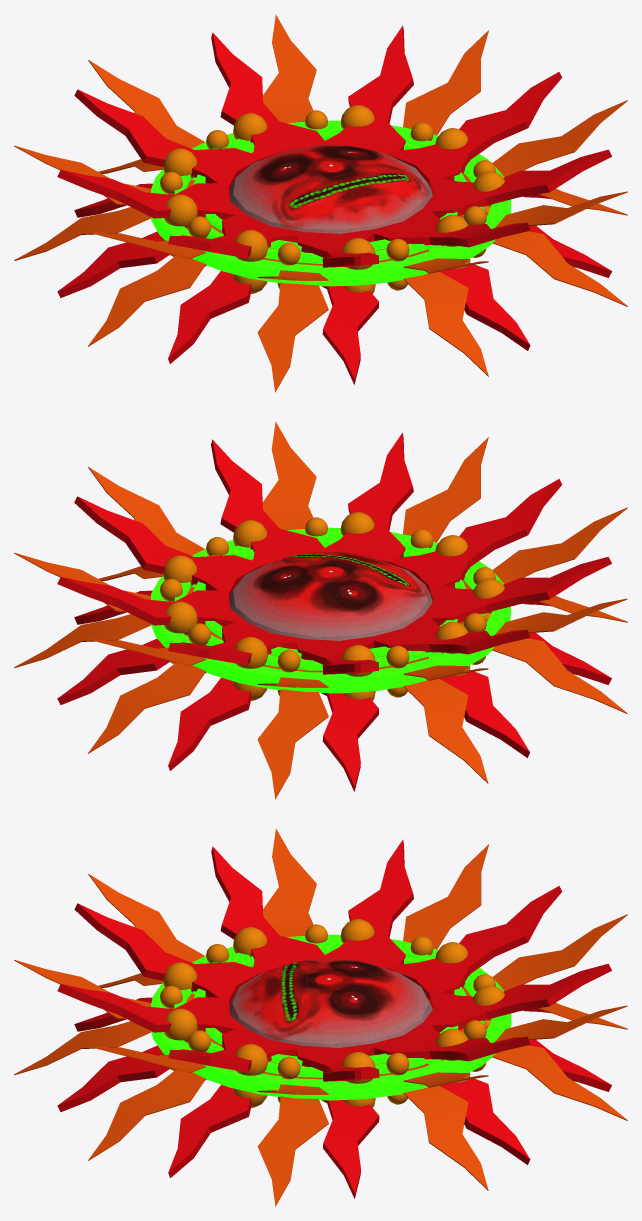
Rendered from SUCCESS.glb.
3 views of the same model, one above another, from view 1: azimuth 30°, elevation 25°; view 2: azimuth 150°, elevation 25°; view 3: azimuth 270°, elevation 25° (orthographic).
Parts seen in each view (by area): view 1: SUCCESS; view 2: SUCCESS; view 3: SUCCESS.
Part boxes in pixels (box(x1,y1,x2,y2)): SUCCESS: box(14, 14, 627, 392); SUCCESS: box(14, 422, 627, 798); SUCCESS: box(14, 828, 627, 1206).
Size of the model in its own units: 2.11 by 0.4799 by 2.08.
5 materials, 1 textured.
